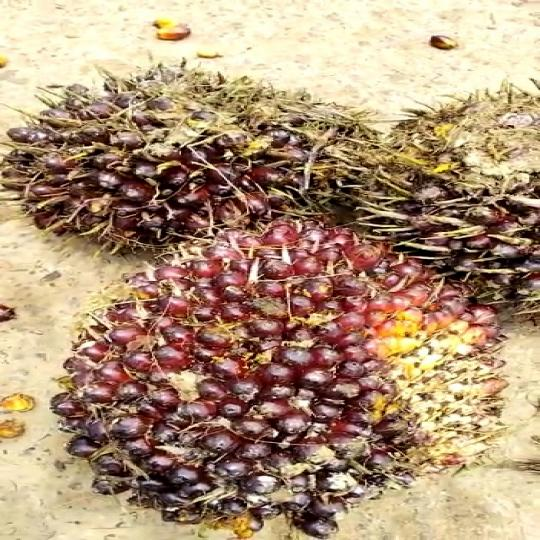kurang masak: (66, 231, 510, 537), (0, 48, 379, 253), (348, 85, 540, 333)
